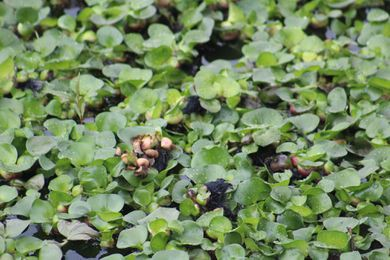water_hyacinth: (0, 118, 390, 260)
